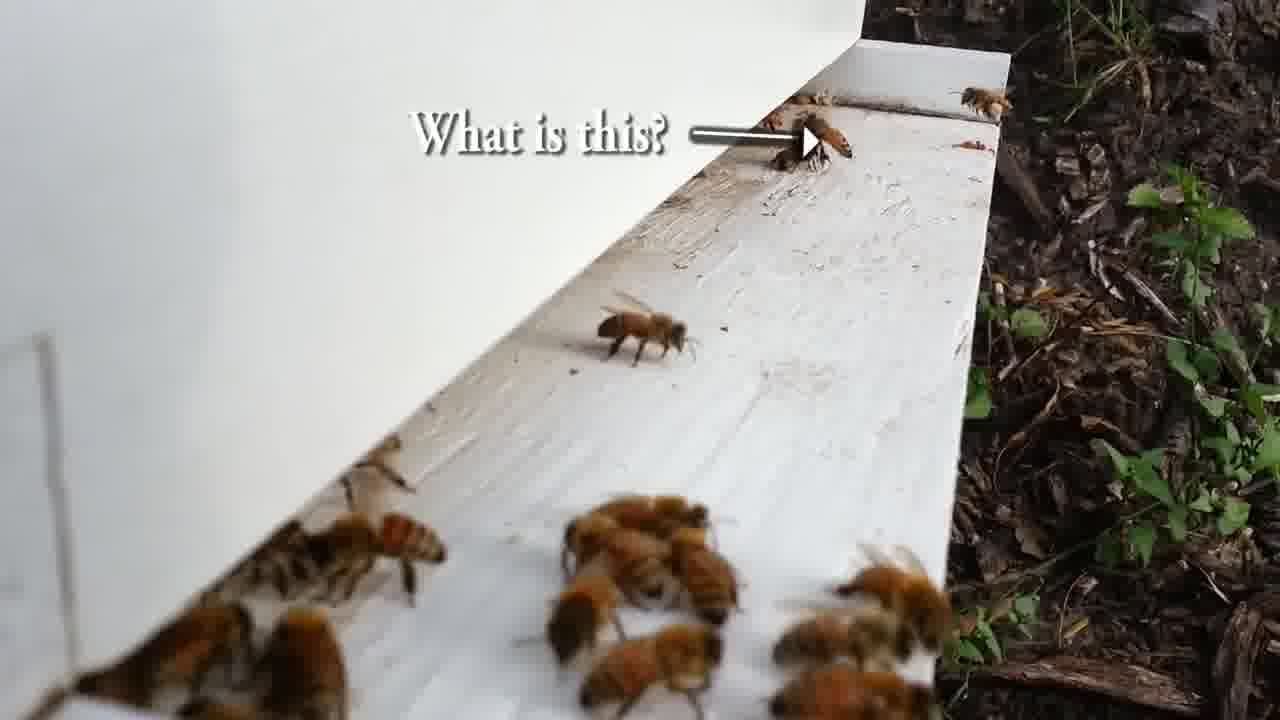pollen: (947, 79, 1015, 128)
